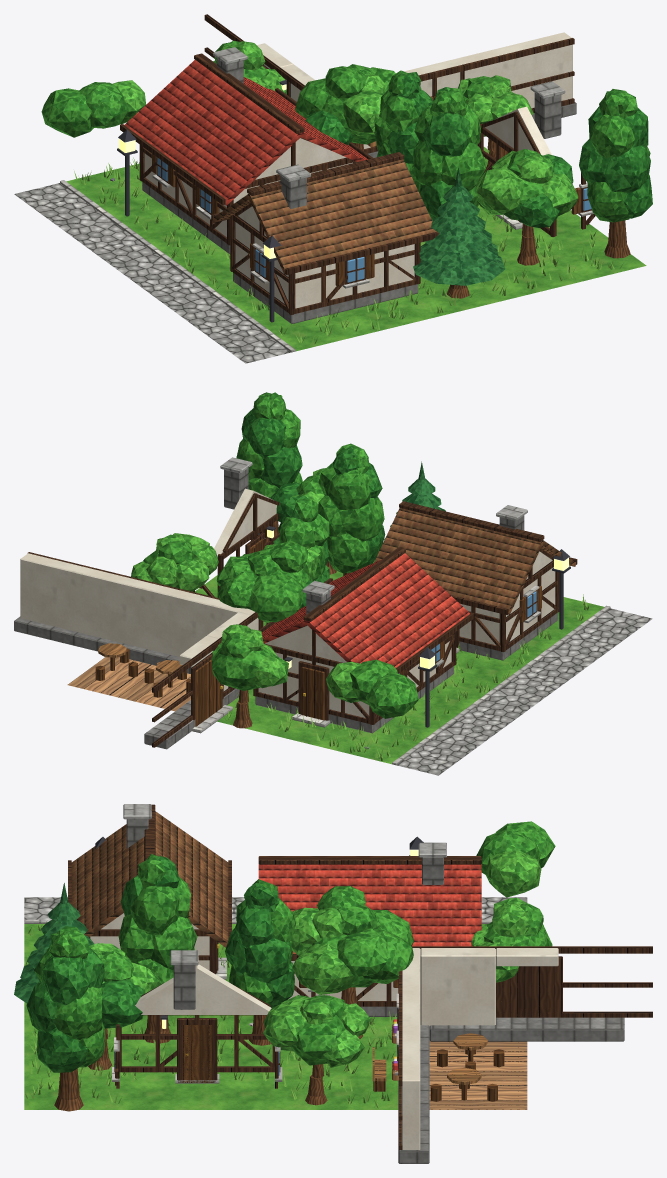
The model's file is chunk_2_3.glb.
3 views of the same model, one above another, from view 1: azimuth 30°, elevation 25°; view 2: azimuth 150°, elevation 25°; view 3: azimuth 270°, elevation 25° (orthographic). The views are drawn at different scales.
Visible parts, largest first — view 1: chunk_2_3; view 2: chunk_2_3; view 3: chunk_2_3.
Part boxes in pixels (<box>): chunk_2_3: <box>14,14,652,363</box>; chunk_2_3: <box>14,392,652,775</box>; chunk_2_3: <box>14,804,652,1163</box>.
Bounding box in the file's own units: 20.1 × 6.39 × 20.33.
28 materials, 19 textured.
